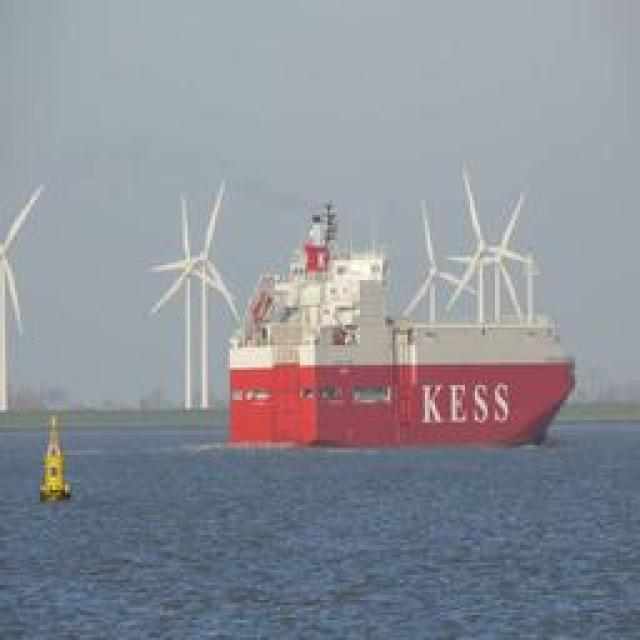CIV_Ship: (218, 171, 572, 454)
